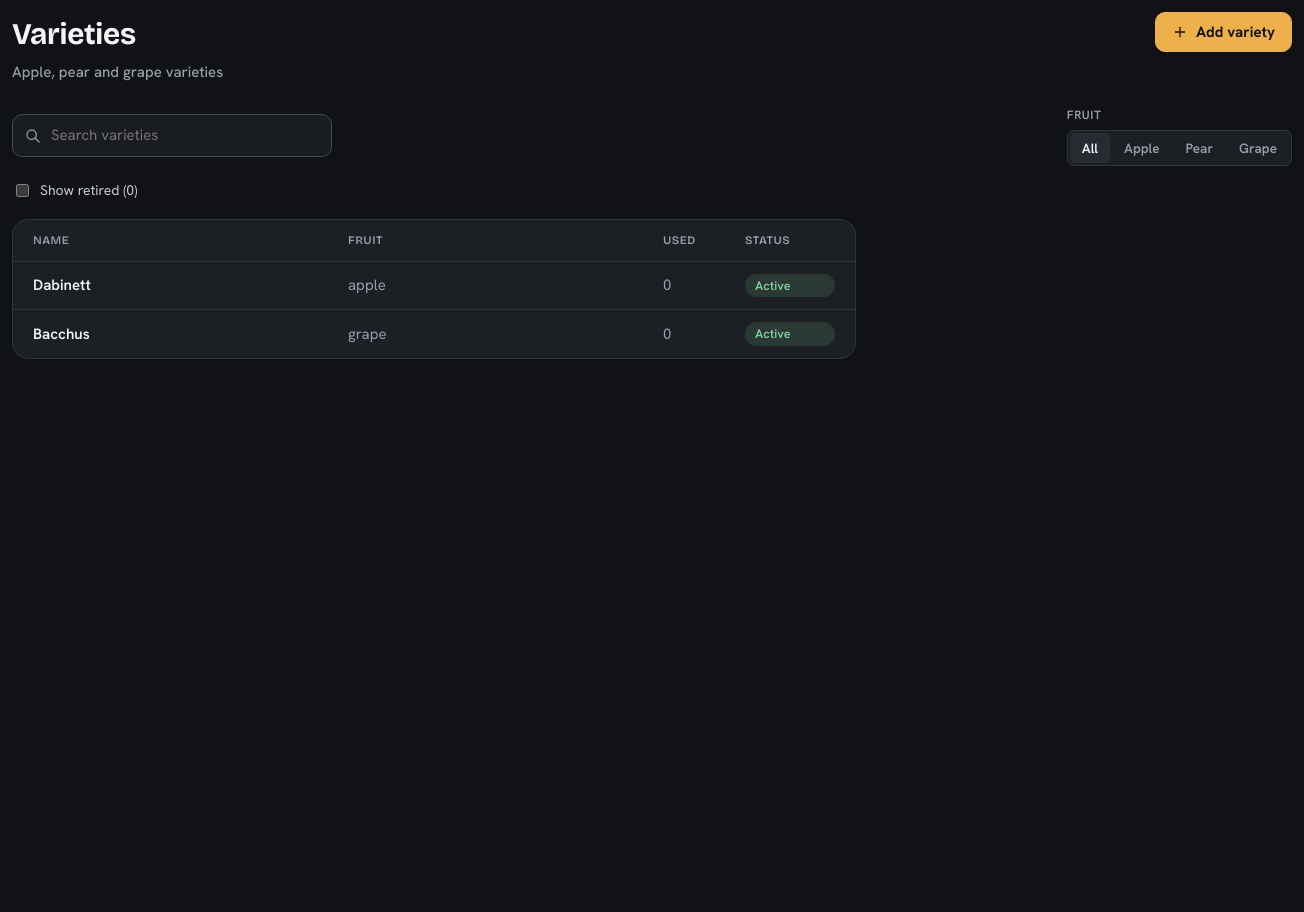
ManagementList › sends a client id on create and reuses it when a failed save is retried
Expected: the text "Dabinett" is shown, [33,275,91,295]
Click the button "Add variety".
click(1224, 32)  # box [1155,12,1292,52]
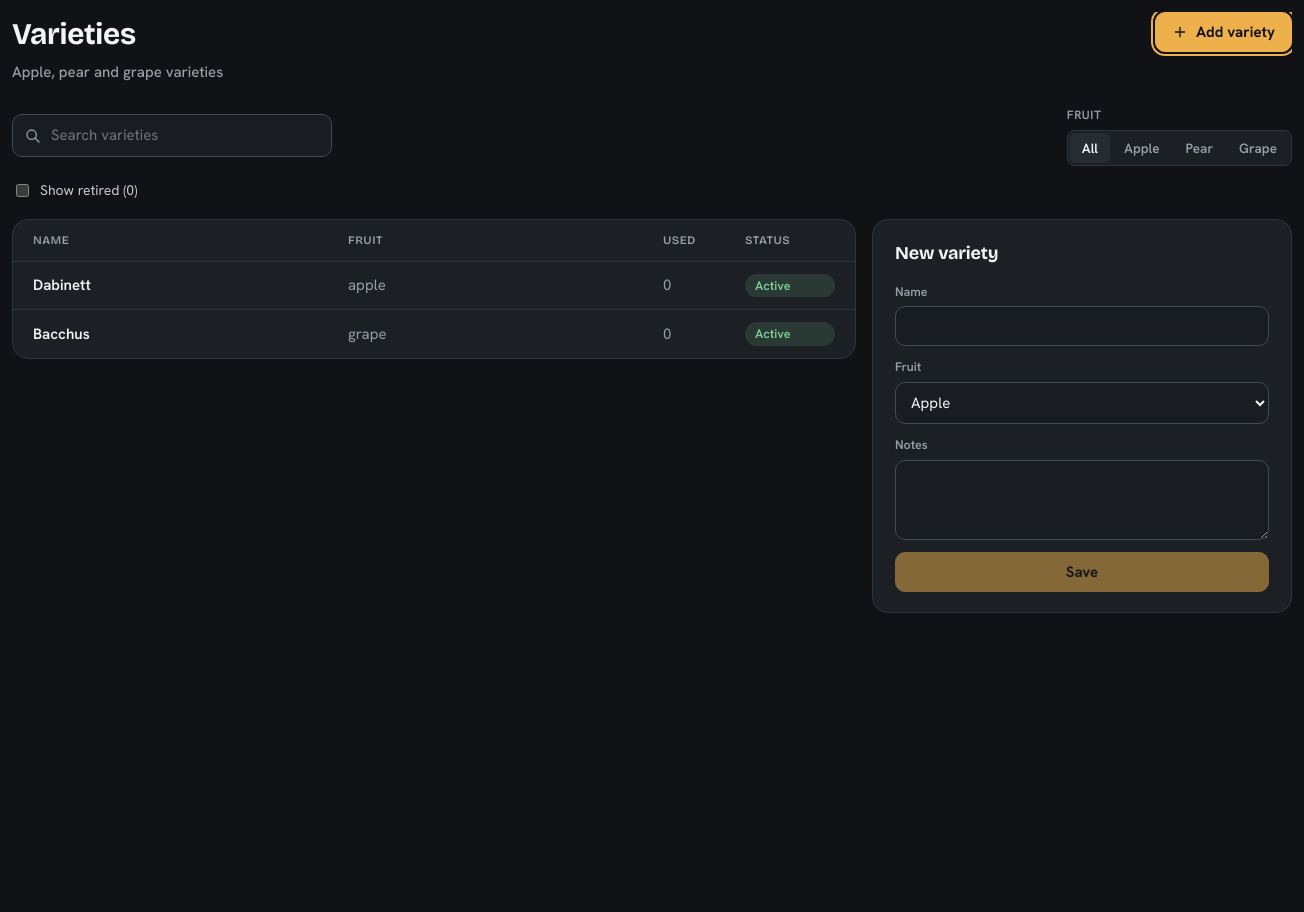
Type "Thorn" into the field labelled "Name".
click(1082, 326); type("Thorn")  # box [895,306,1269,346]
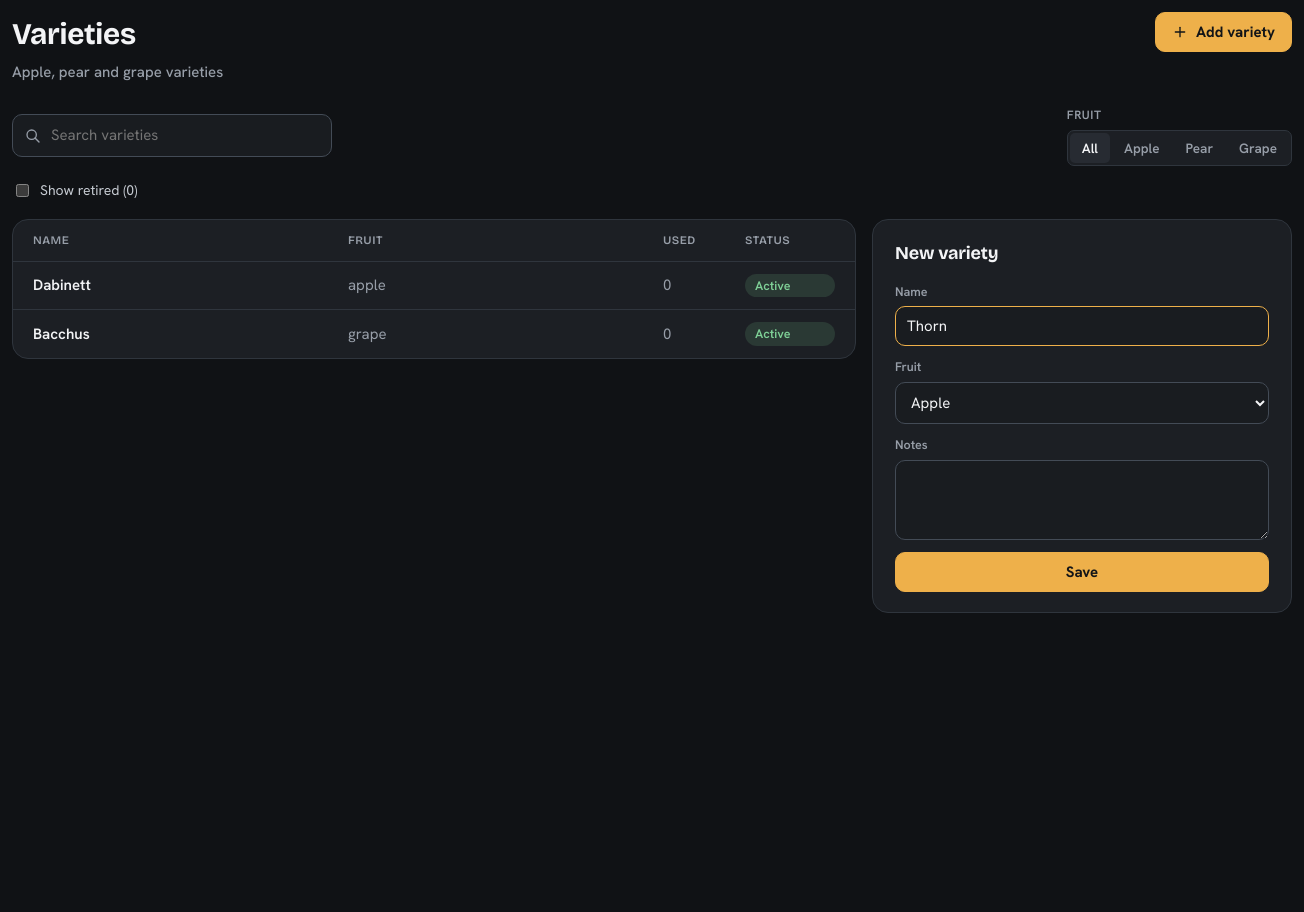
Click the button "Save".
click(1082, 572)  # box [895,552,1269,592]
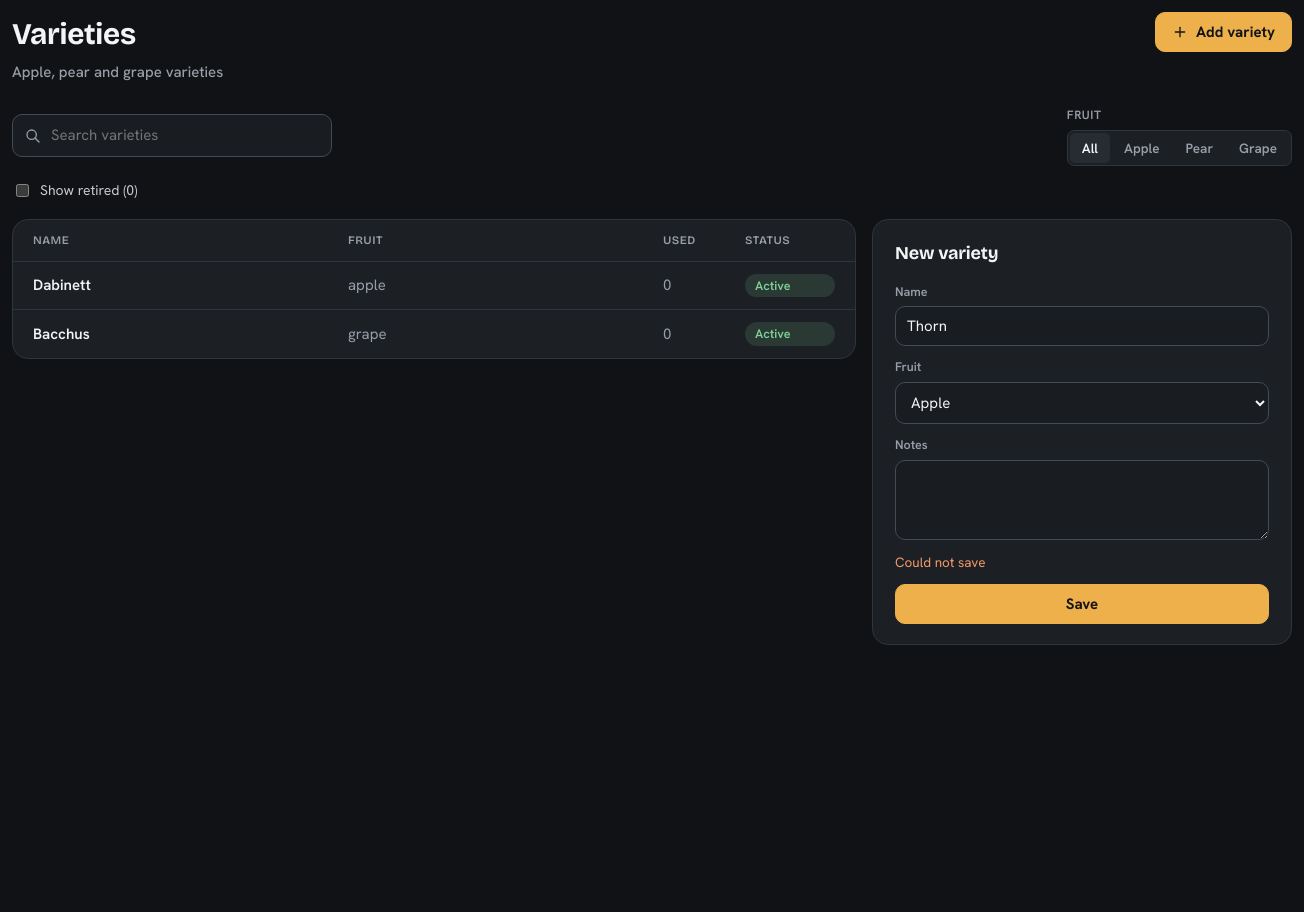
Expected: the text "Could not save" is shown, [895,553,986,571]
Click the button "Save".
click(1082, 604)  # box [895,584,1269,624]
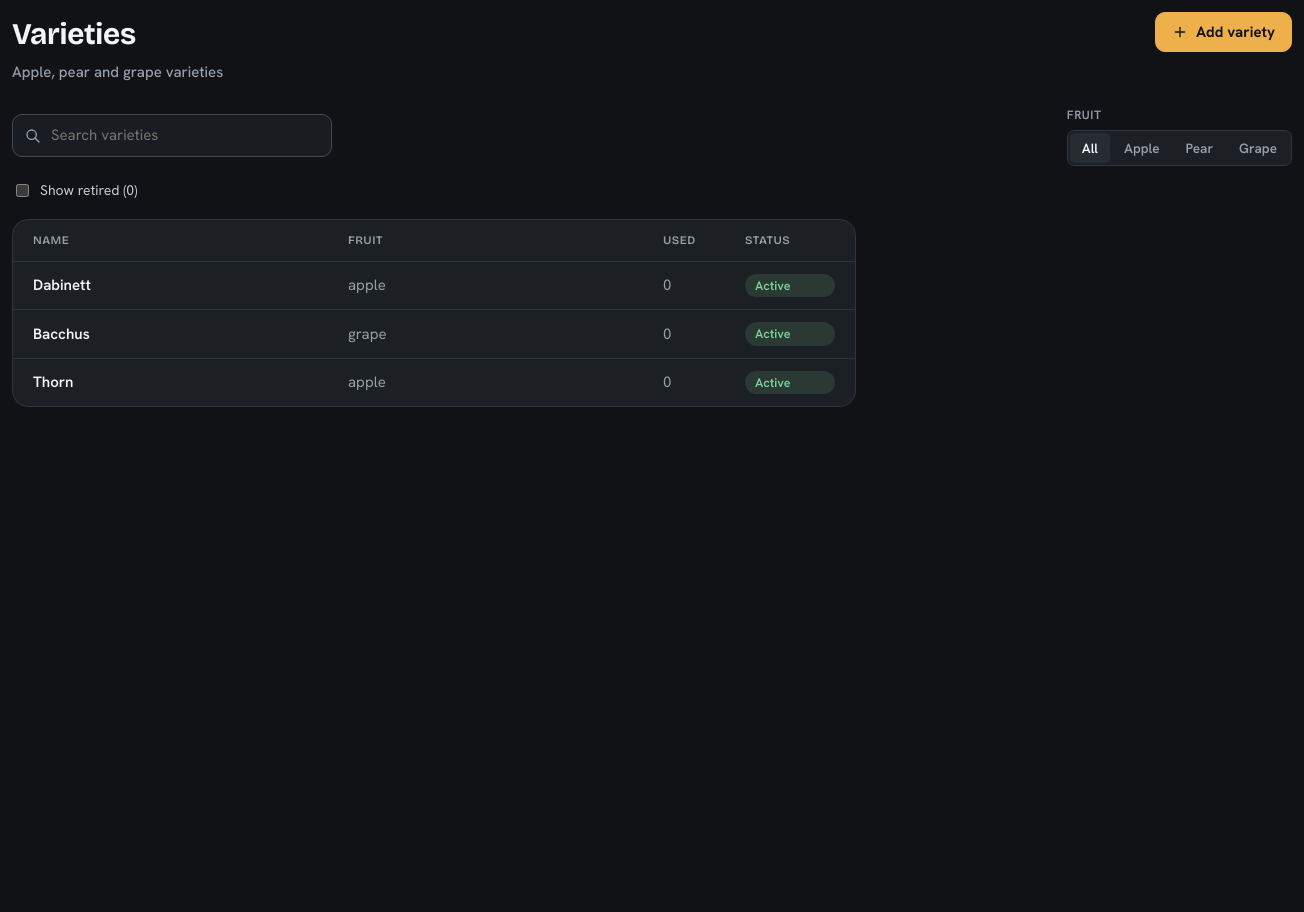
Expected: the text "Thorn" is shown, [33,372,74,392]
